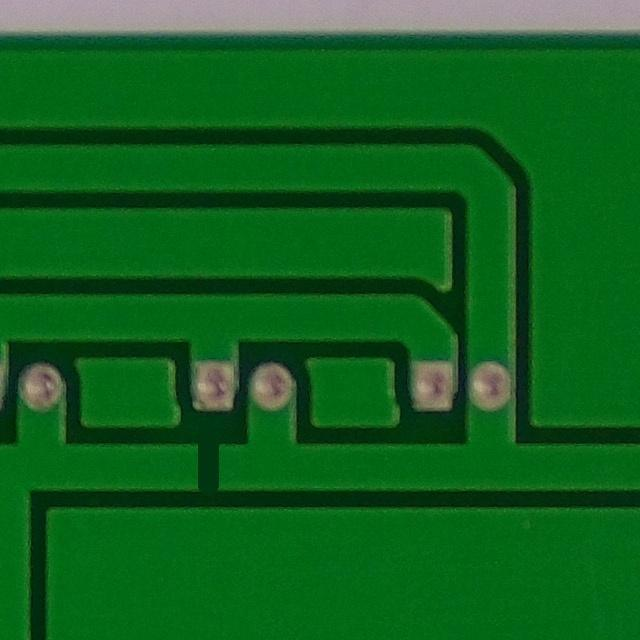open_circuit: (171, 433, 241, 501)
